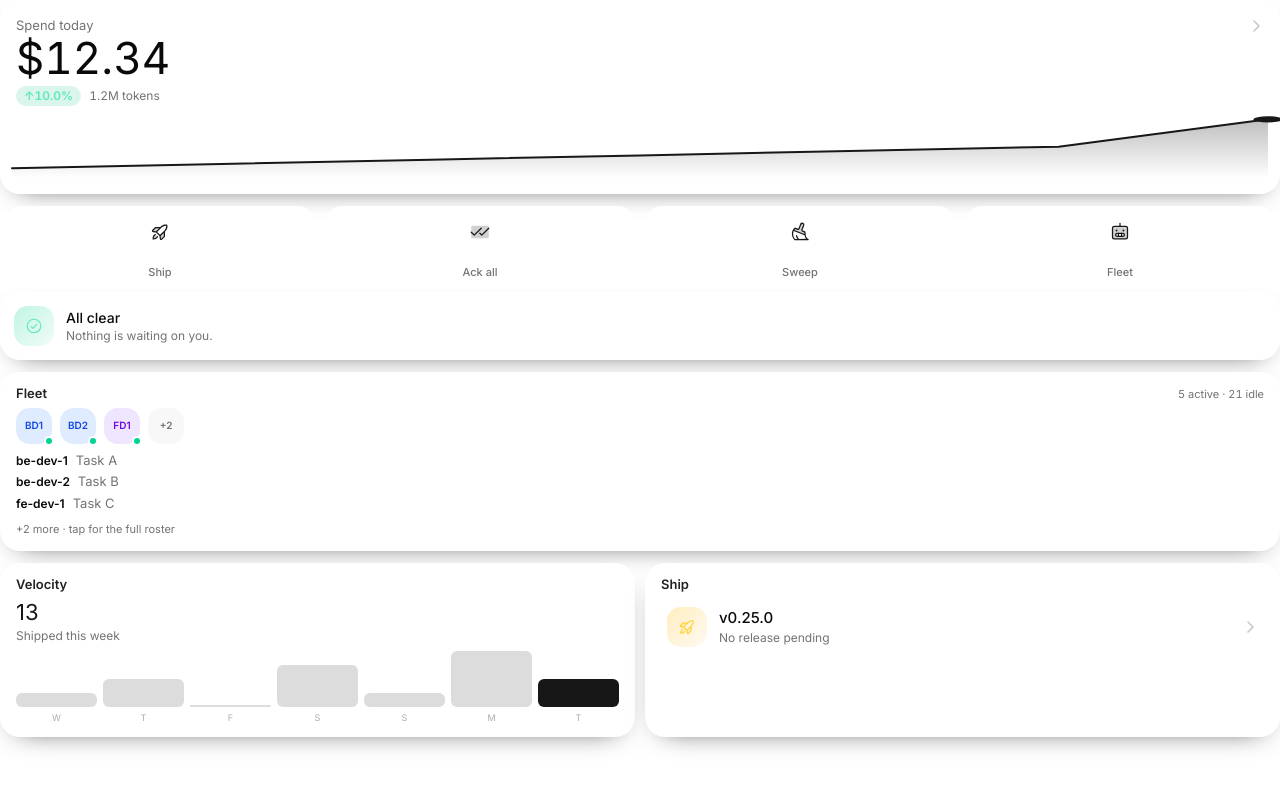
it: TgTodayTab › opens the fleet sheet with the full working roster
What coordinates should you click on to do the following:
click the text "+2 more · tap for the full roster"
I would click on:
 (96, 529)
Its box is [16,522,175,536].
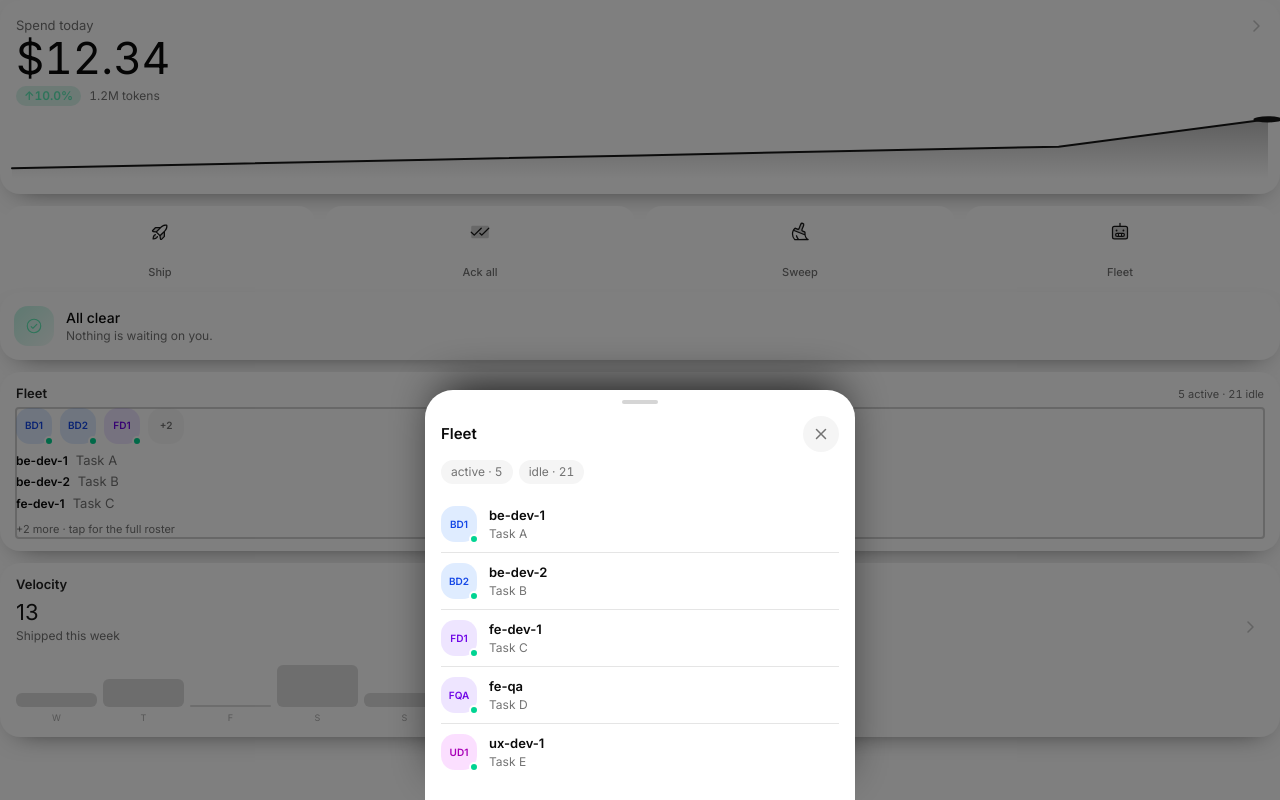
Expected: the dialog is shown, [425,390,855,799]
Expected: the text "Task E" is shown, [489,754,526,769]
Expected: the text "idle · 21" is shown, [519,460,584,484]
